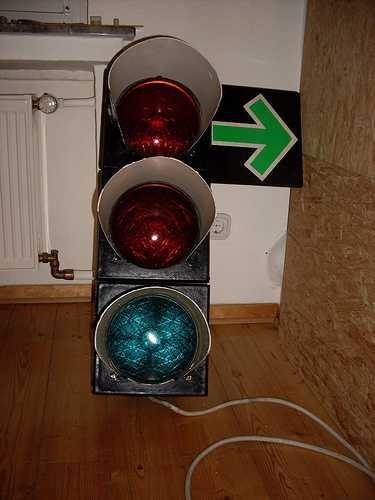green: (200, 79, 309, 196)
